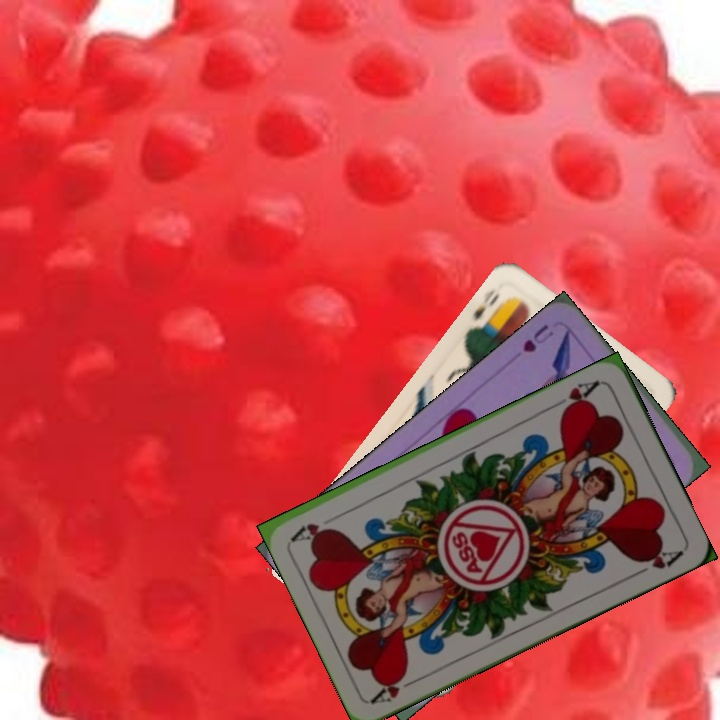EO: (466, 283, 512, 333)
HA: (368, 668, 425, 707), (549, 376, 603, 416)
HU: (519, 320, 557, 355)
